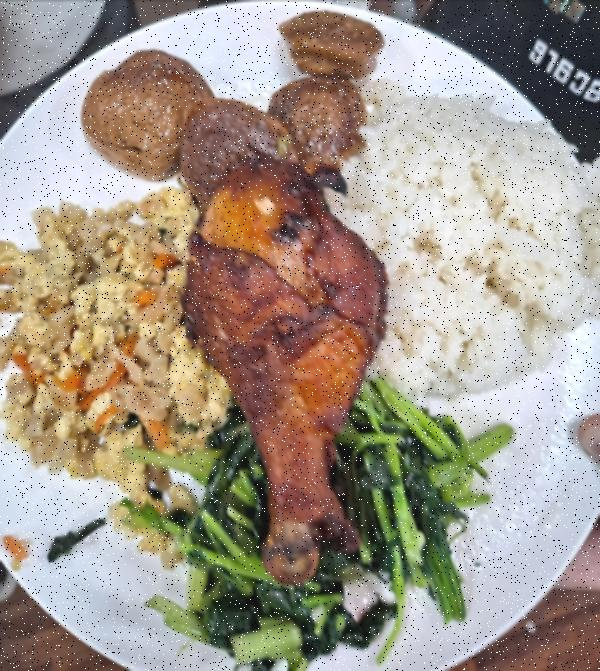honey grilled chicken leg: (189, 155, 398, 585)
plate: (1, 1, 590, 671)
side dish: (161, 401, 463, 666), (3, 183, 198, 494), (80, 7, 386, 195)
white rice: (359, 89, 577, 394)
